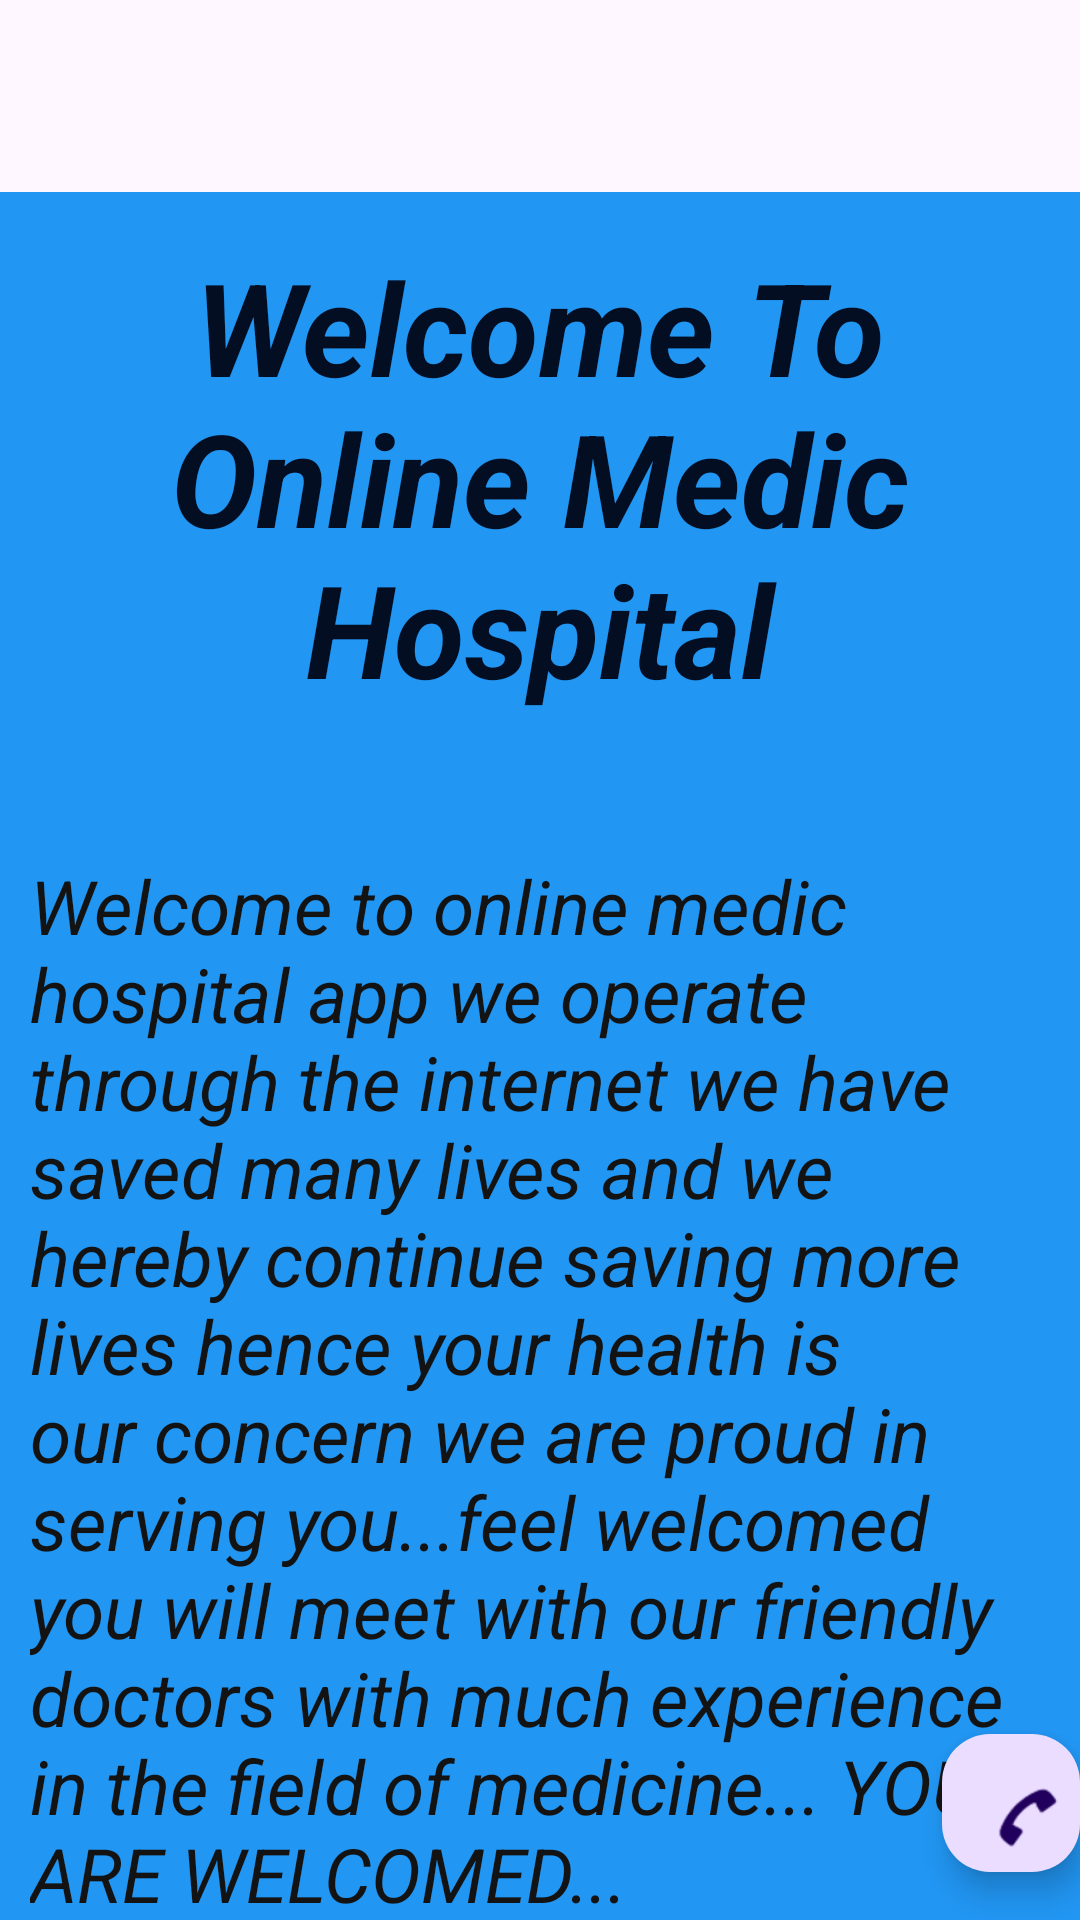

Named icons in this screenshot (1080px x 1920px) and their centers, (x=x, y=y):
sym action call: (x=1011, y=1803)
